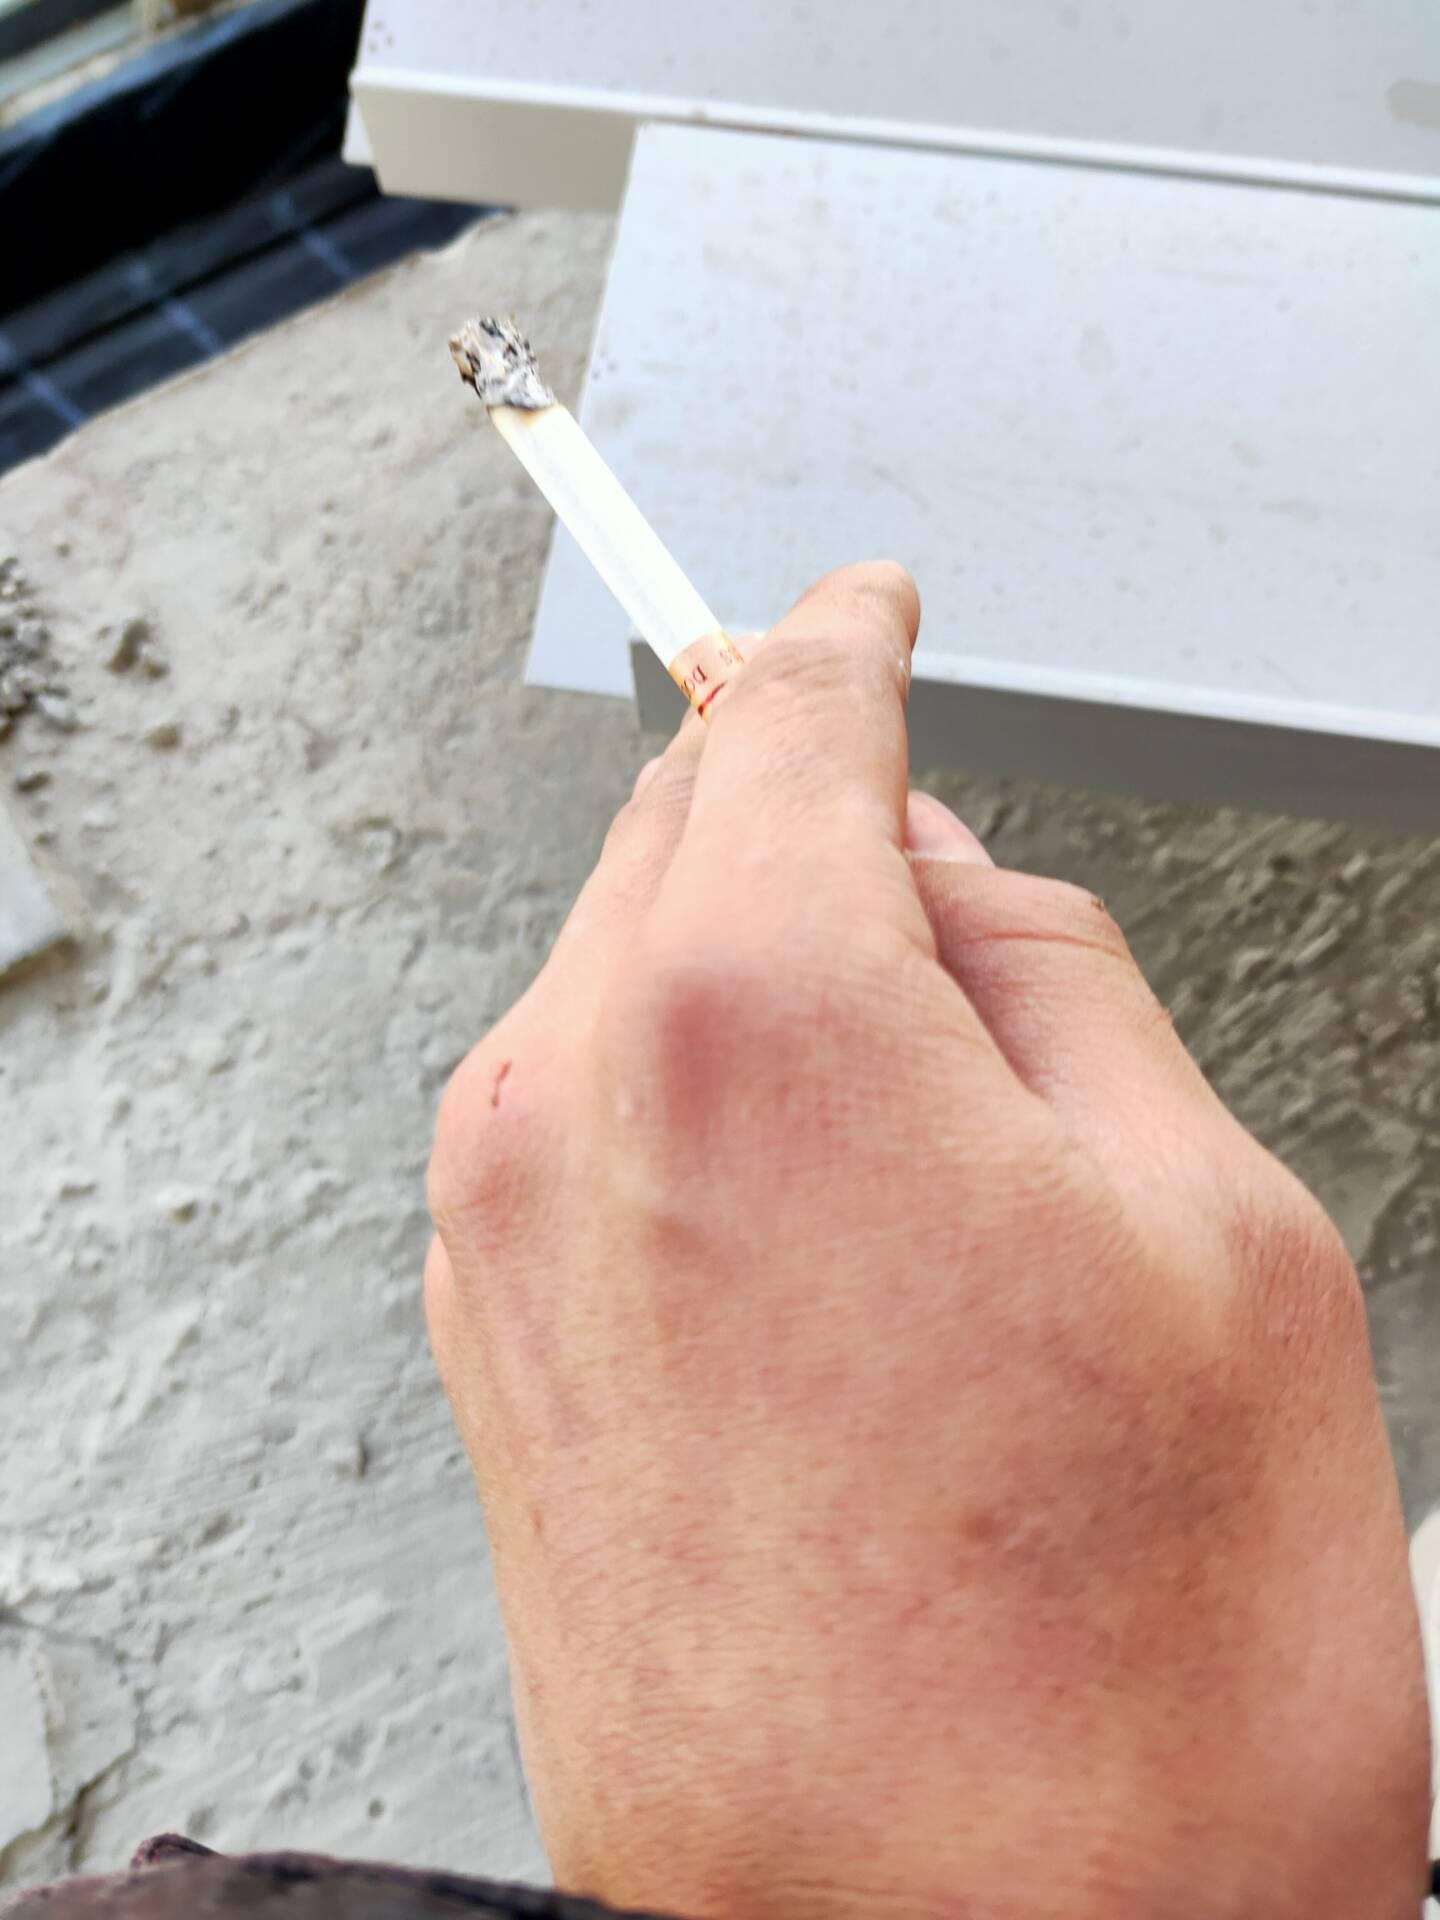Cigarette: (448, 296, 728, 692)
